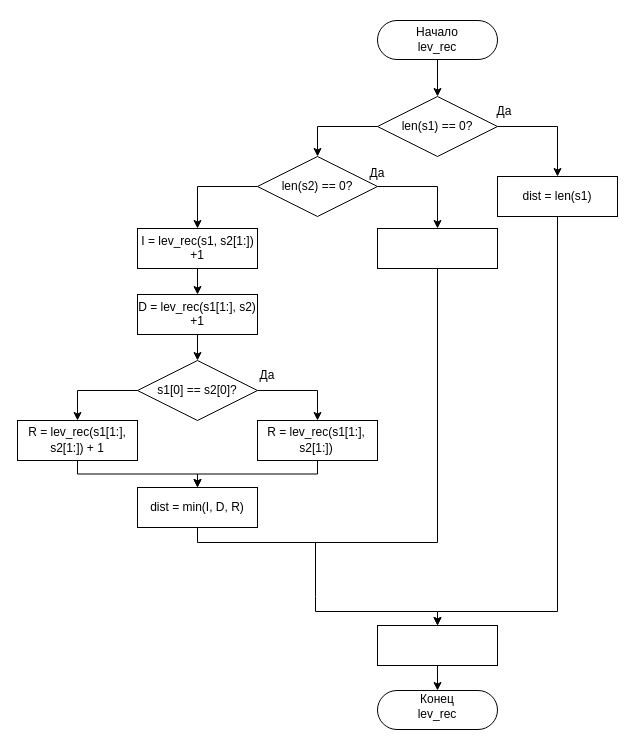
Some shapes in this 635 by 747 pixel diagram are drawn without their labels. The shapes that lost their labels are listed below. From the top down, each one's centre as x and y in pixels, then its label:
[437,248]: dist = len(s2)
[437,645]: Вернуть dist
